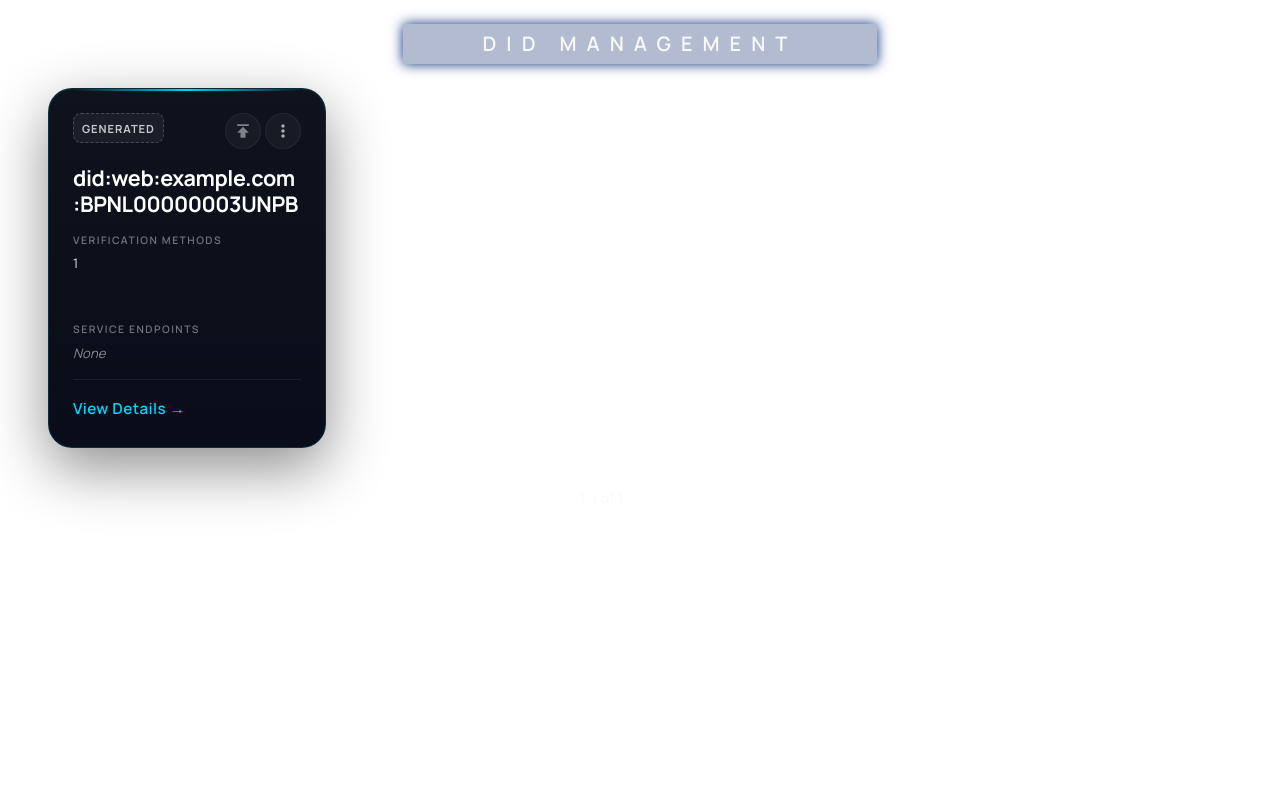
Scenario: DidPage › should show snackbar error when publish fails
Expected: the icon with test id "PublishIcon" is shown, [233,121,253,141]
Click the button with test id "PublishIcon" at (243, 131), box [225,113,261,149]
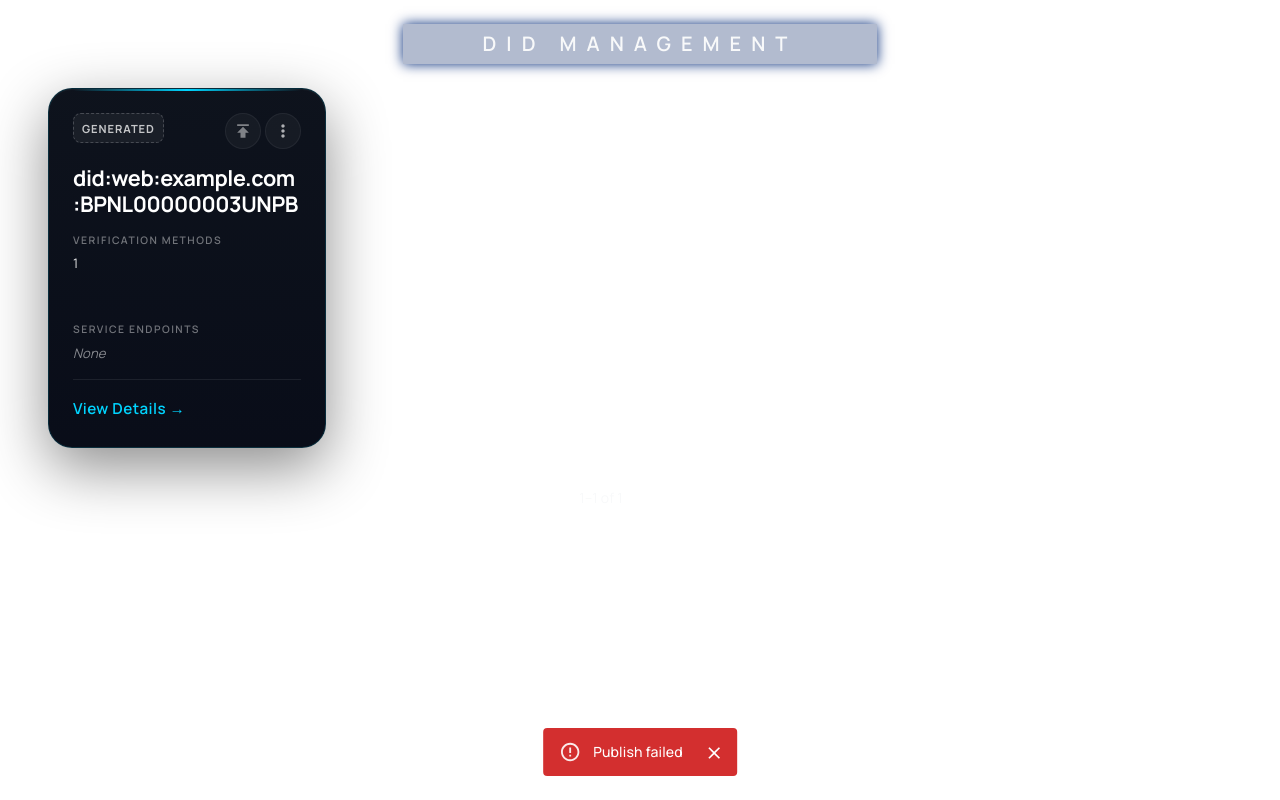
Expected: the text "Publish failed" is shown, [593,742,683,761]
